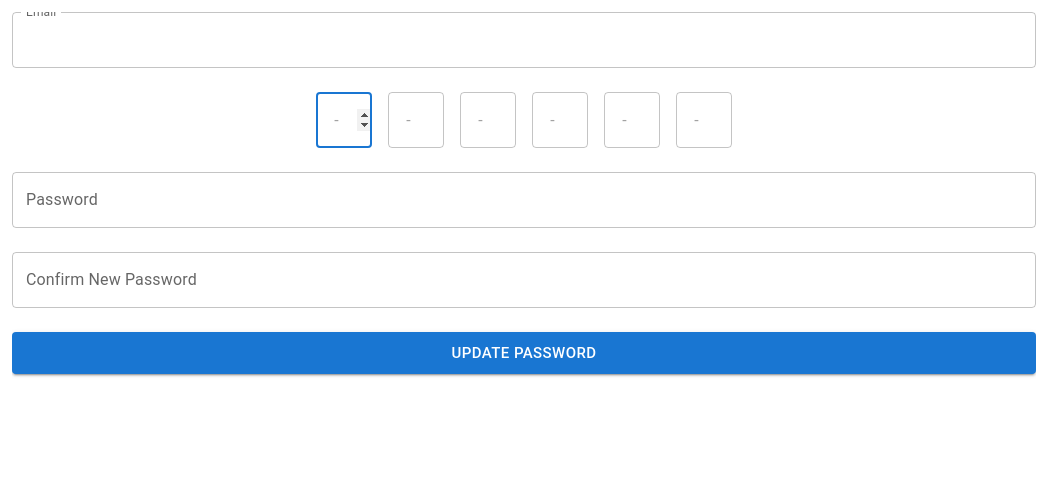
Test: AuthNewPasswordForm › should show an error message and/or disable the submit button when an input field is invalid or incomplete
This screenshot has width=1048, height=484.
Type "invalid-email" into the field labelled "Email" at (524,40), box [12, 12, 1036, 68]
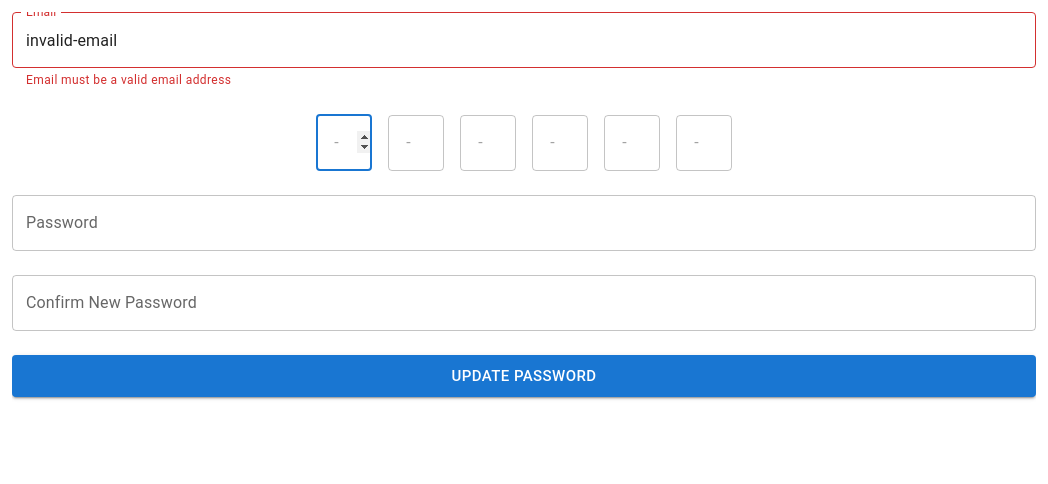
expect the text "Email must be a valid email address" is shown: met, box [26, 73, 231, 87]
Type "password1" into the password field labelled "Password" at (501,223), box [12, 195, 990, 251]
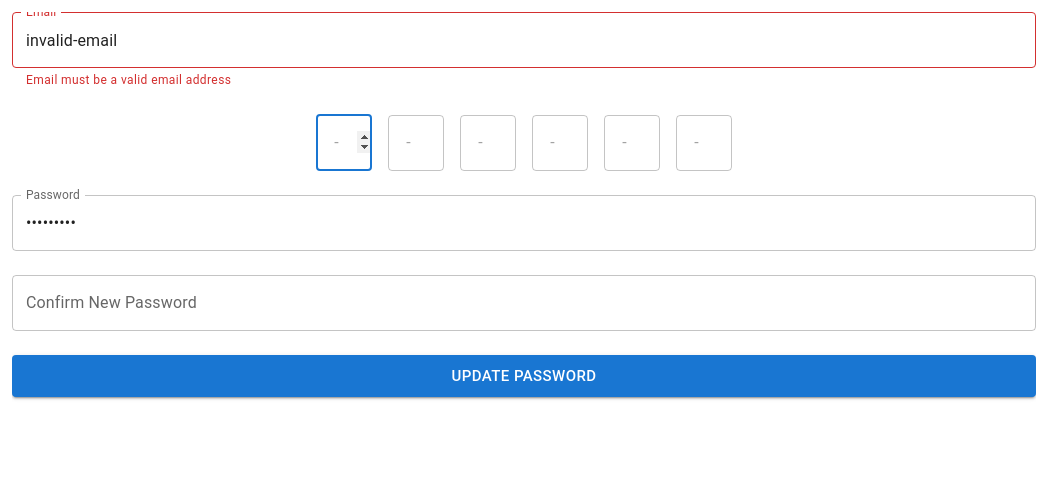
Type "password2" into the password field labelled "Confirm New Password" at (501,303), box [12, 275, 990, 331]
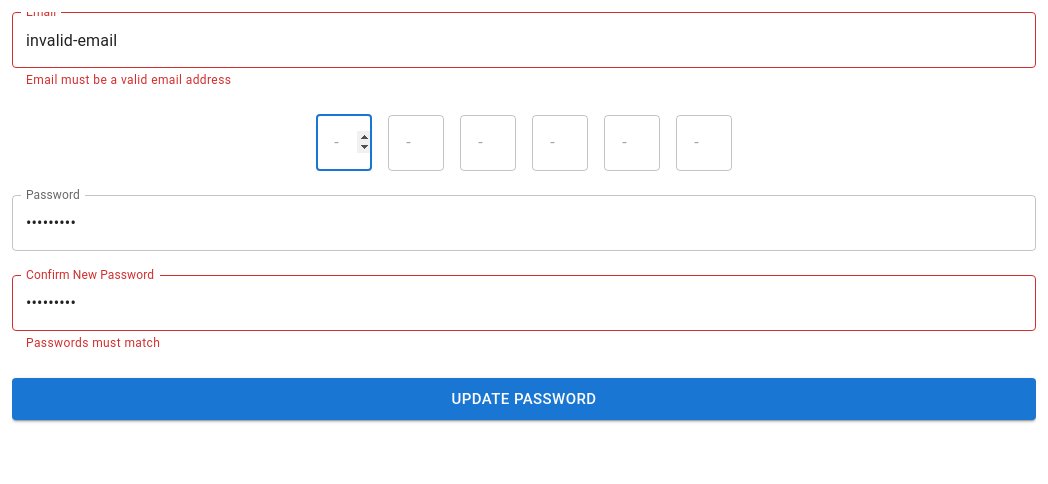
expect the text "Code is required" is not shown: met
expect the text "Passwords must match" is shown: met, box [26, 336, 160, 350]
Type "2" into the 1st number field with placeholder "-" at (344,143), box [316, 131, 372, 154]
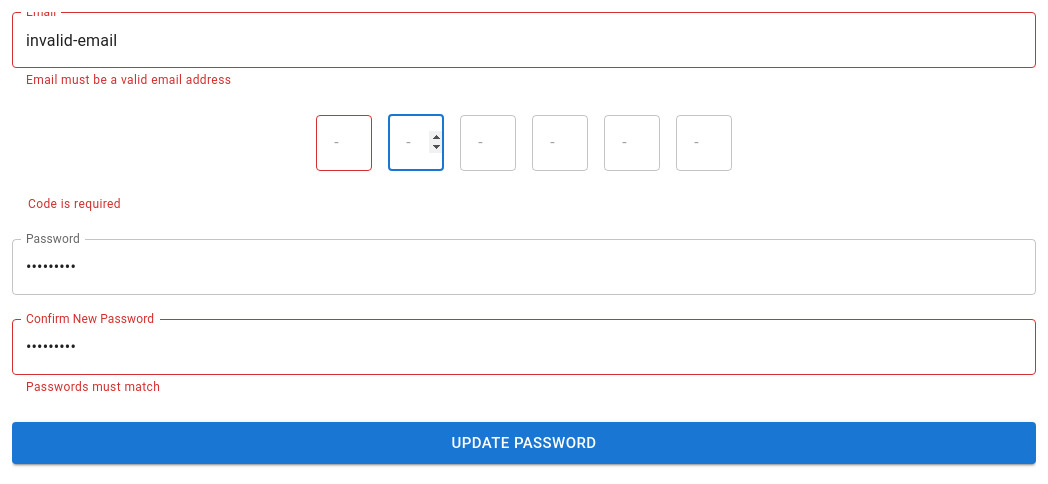
expect the text "Code is required" is shown: met, box [28, 197, 121, 211]
